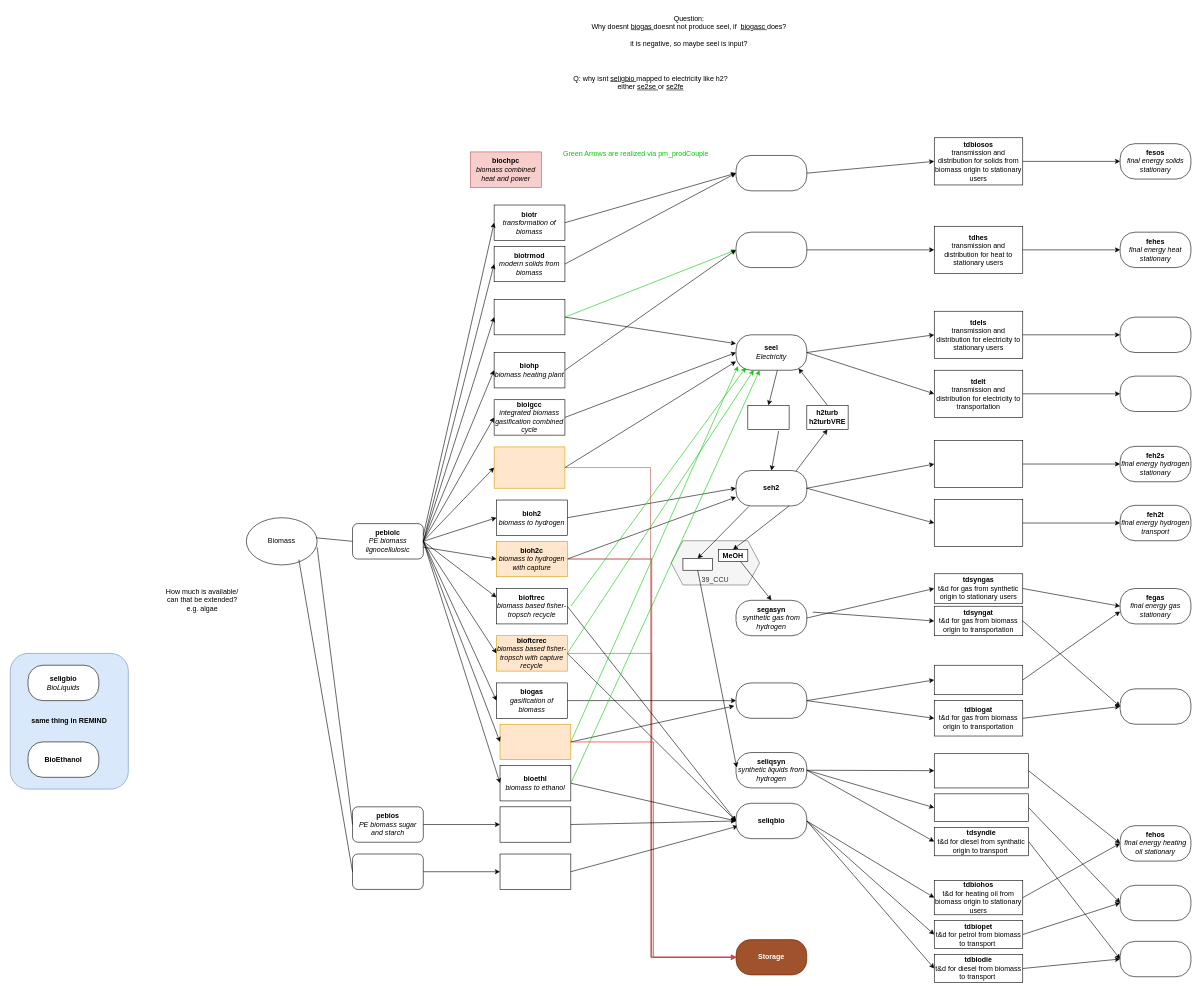
The diagram is 1201 pixels wide and 993 high, and some of its shapes have lost their labels. The shapes that lost their labels are listed below. From the top down, each one's box as (x1, y1, x2, y2) in pixels, then its label:
(735, 155, 807, 191): sesobio
(735, 232, 807, 268): sehe
(494, 299, 565, 335): biochp biomass combined heat and power
(1120, 317, 1191, 353): feels final energy electricity stationary
(1120, 376, 1191, 412): feelt final energy electricity transport
(747, 405, 789, 430): elh2 elh2VRE
(494, 446, 565, 488): bioigccc integrated biomass gasification combined cycle with CCS
(934, 440, 1023, 488): tdh2s transmission and distribution for hydrogen to stationary users
(934, 499, 1023, 547): tdh2t transmission and distribution for hydrogen to transportation
(682, 558, 712, 570): h22ch4
(735, 682, 807, 718): segabio Biogas
(934, 665, 1023, 695): tdbiogas t&d for gas from biomass origin to stationary users
(1120, 688, 1191, 724): fegat final energy gas transport
(499, 724, 571, 760): biogasc gasification of biomass with capture
(934, 753, 1029, 788): tdsynhos t&d for heating oil from synthetic origin to stationary users
(499, 806, 571, 842): bioeths sugar and starch biomass to ethanol
(934, 793, 1029, 822): tdsynpet t&d for petrol from synthetic origin to transport
(352, 853, 423, 889): pebioil PE biomass sunflowers, palm oil, etc
(499, 853, 571, 889): biodiesel oil biomass to biodiesel
(1120, 885, 1191, 921): fepet final energy petrol transport
(1120, 941, 1191, 977): fedie final energy diesel tramsport
